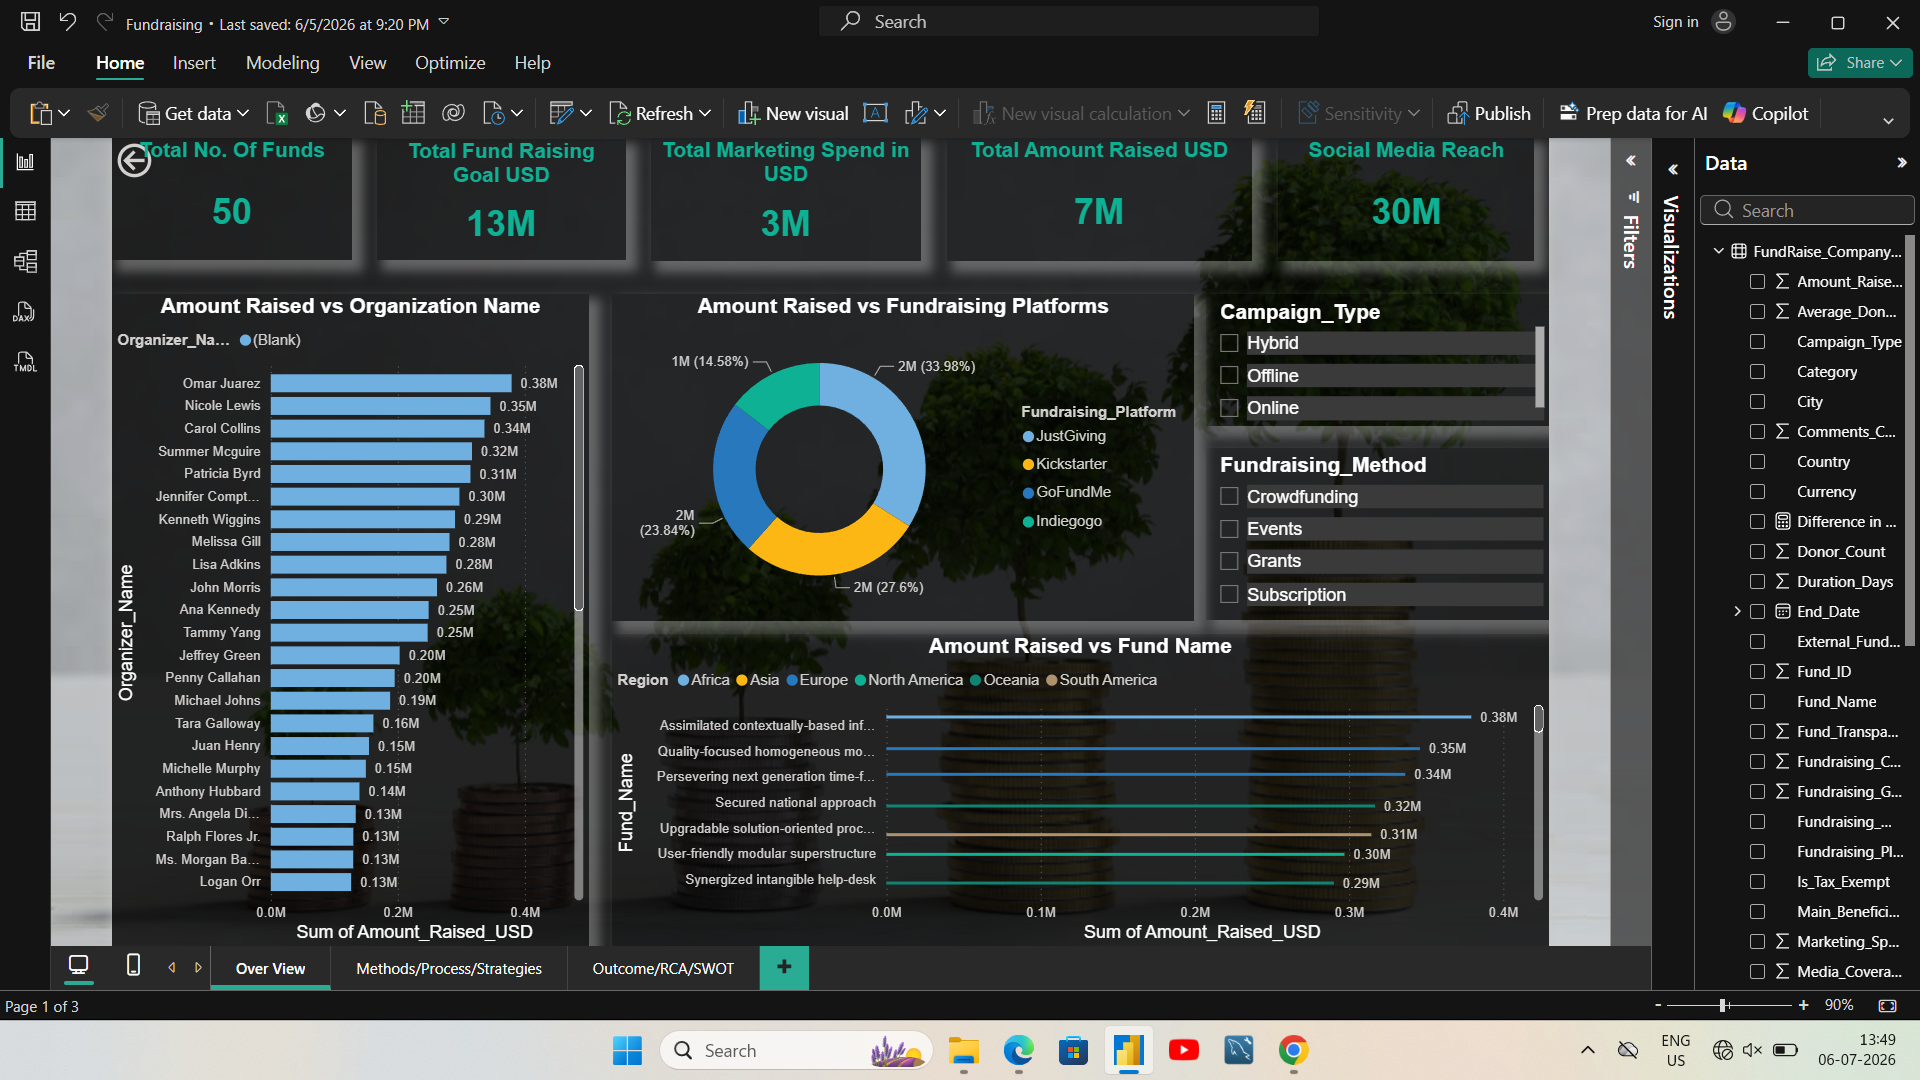

Layout of this report page (visuals, bound fields, positions):
{"tool":"powerbi","page":{"name":"Over View","canvas":[1280,720],"ordinal":0},"visuals":[{"type":"card","title":"Total Marketing Spend in USD","fields":{"Values":["Sum(FundRaise_CompanyDataset.Marketing_Spend_USD)"]},"box":[479.8,0,240.5,109.2],"z":0},{"type":"card","title":"Total Fund Raising Goal USD","fields":{"Values":["Sum(FundRaise_CompanyDataset.Fundraising_Goal_USD)"]},"box":[236.2,1.2,221.2,107.5],"z":1000},{"type":"actionButton","box":[0,0,100,40],"z":2000},{"type":"card","title":"Total Amount Raised USD","fields":{"Values":["Sum(FundRaise_CompanyDataset.Amount_Raised_USD)"]},"box":[743.6,0,271.2,109.2],"z":3000},{"type":"barChart","title":"Amount Raised vs Organization Name","fields":{"Category":["FundRaise_CompanyDataset.Organizer_Name"],"Y":["Sum(FundRaise_CompanyDataset.Amount_Raised_USD)"],"Series":["FundRaise_CompanyDataset.Organizer_Name (clusters)"]},"box":[0,138.8,425,581.2],"z":4000},{"type":"donutChart","title":"Amount Raised vs Fundraising Platforms","fields":{"Category":["FundRaise_CompanyDataset.Fundraising_Platform"],"Y":["Sum(FundRaise_CompanyDataset.Amount_Raised_USD)"]},"box":[445,138.8,518.8,291.2],"z":5000},{"type":"clusteredBarChart","title":"Amount Raised vs Fund Name","fields":{"Category":["FundRaise_CompanyDataset.Fund_Name"],"Y":["Sum(FundRaise_CompanyDataset.Amount_Raised_USD)"],"Series":["FundRaise_CompanyDataset.Region"]},"box":[445.4,441.7,834.4,278.5],"z":6000},{"type":"slicer","fields":{"Values":["FundRaise_CompanyDataset.Campaign_Type"]},"box":[973.8,138.8,306.2,117.5],"z":7000},{"type":"slicer","fields":{"Values":["FundRaise_CompanyDataset.Fundraising_Method"]},"box":[974.2,276.1,305.5,153.4],"z":8000},{"type":"card","title":"Total No. Of Funds","fields":{"Values":["FundRaise_CompanyDataset.total funds"]},"box":[0,0,213.8,108.8],"z":9000},{"type":"card","title":"Social Media Reach","fields":{"Values":["Sum(FundRaise_CompanyDataset.Social_Media_Reach)"]},"box":[1038,0,228.2,109.2],"z":9001}]}

Visuals, with their boxes on the page's 1280x720 design canvas (x1, y1, x2, y2). These are canvas units, not pixel positions in the 1920x1080 screenshot, which may show the page scaled, cropped or inside an application window:
"Total Marketing Spend in USD" card: 480 0 720 109
"Total Fund Raising Goal USD" card: 236 1 457 109
actionButton: 0 0 100 40
"Total Amount Raised USD" card: 744 0 1015 109
"Amount Raised vs Organization Name" barChart: 0 139 425 720
"Amount Raised vs Fundraising Platforms" donutChart: 445 139 964 430
"Amount Raised vs Fund Name" clusteredBarChart: 445 442 1280 720
slicer - FundRaise_CompanyDataset.Campaign_Type: 974 139 1280 256
slicer - FundRaise_CompanyDataset.Fundraising_Method: 974 276 1280 430
"Total No. Of Funds" card: 0 0 214 109
"Social Media Reach" card: 1038 0 1266 109
